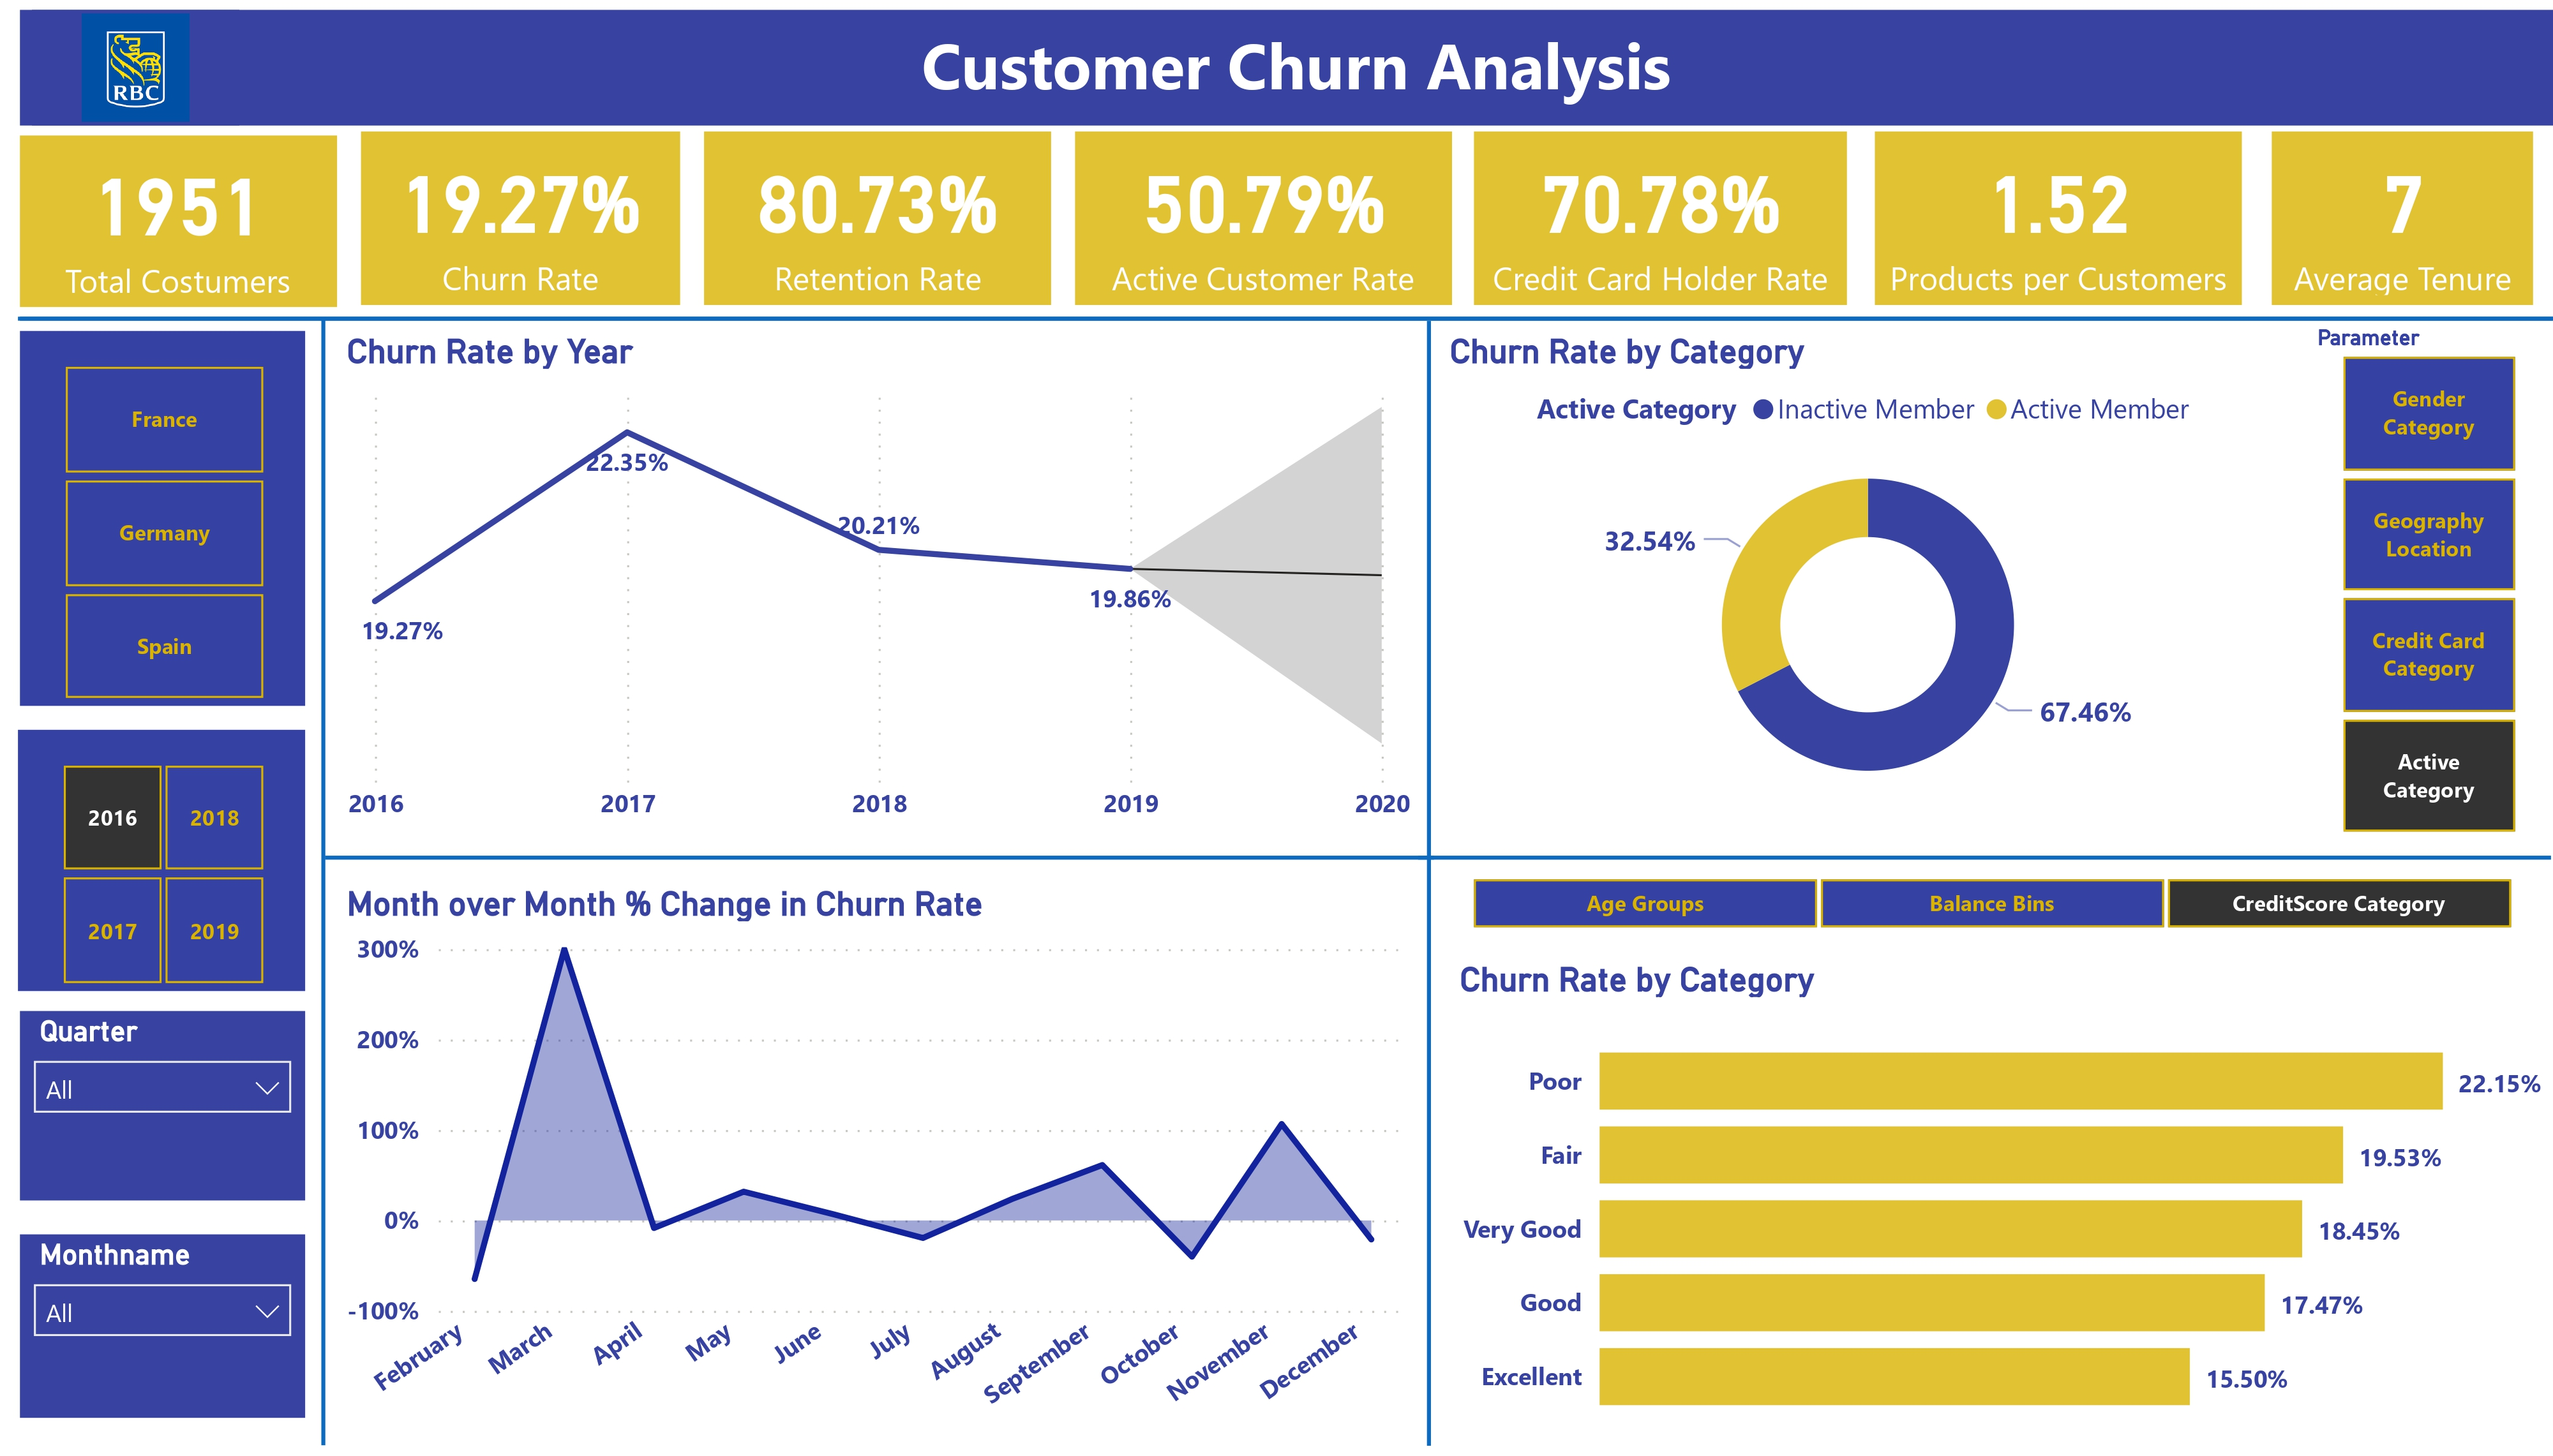

The page's visual inventory and layout, read from the dashboard file:
{"tool":"powerbi","page":{"name":"Page 1","canvas":[1280,720],"ordinal":0},"visuals":[{"type":"textbox","box":[9.6,0,1271,57.6],"z":0},{"type":"image","box":[16.5,0,104.2,57.6],"z":1000},{"type":"card","fields":{"Values":["MeasureTable.Total Costumers"]},"box":[10,62.9,158.6,85.7],"z":2000},{"type":"card","fields":{"Values":["MeasureTable.Churn Rate"]},"box":[181.4,61.4,160,87.1],"z":3000},{"type":"card","fields":{"Values":["MeasureTable.Retention Rate"]},"box":[352.9,61.4,174.3,87.1],"z":4000},{"type":"card","fields":{"Values":["MeasureTable.Average Tenure"]},"box":[1138.6,61.4,131.4,87.1],"z":5000},{"type":"card","fields":{"Values":["MeasureTable.Products per Customers"]},"box":[940,61.4,184.3,87.1],"z":6000},{"type":"card","fields":{"Values":["MeasureTable.Active Customer Rate"]},"box":[538.6,61.4,188.6,87.1],"z":7000},{"type":"card","fields":{"Values":["MeasureTable.Credit Card Holder Rate"]},"box":[738.6,61.4,187.1,87.1],"z":8000},{"type":"shape","box":[9.6,148.1,1271,13.7],"z":9000},{"type":"shape","box":[156.5,155.2,12.2,564.8],"z":10000},{"type":"slicer","title":"Year","fields":{"Values":["DateMaster.Year"]},"box":[8.6,360.6,144.2,130.8],"z":11000},{"type":"slicer","fields":{"Values":["Geography.GeographyLocation"]},"box":[9.8,161.4,143,188.3],"z":12000},{"type":"slicer","fields":{"Values":["DateMaster.Monthname"]},"box":[9.8,613.7,143,91.7],"z":13000},{"type":"donutChart","title":"Churn Rate by Category","fields":{"Category":["ActiveCustomer.ActiveCategory"],"Y":["MeasureTable.Churn Rate"]},"box":[722.4,161.4,429.1,246.9],"z":14000},{"type":"slicer","fields":{"Values":["Parameter.Parameter"]},"box":[1151.5,156.5,129.6,260.4],"z":15000},{"type":"clusteredBarChart","title":"Churn Rate  by Category","fields":{"Category":["Bank_Churn.CreditScore Category"],"Y":["MeasureTable.Churn Rate"]},"box":[727.3,475.5,552.5,244.5],"z":16000},{"type":"lineChart","fields":{"Y":["MeasureTable.Churn Rate"],"Category":["DateMaster.Date.Variation.Date Hierarchy.Year","DateMaster.Date.Variation.Date Hierarchy.Quarter","DateMaster.Date.Variation.Date Hierarchy.Month","DateMaster.Date.Variation.Date Hierarchy.Day"]},"box":[168.7,161.4,542.8,255.5],"z":17000},{"type":"slicer","fields":{"Values":["Parameter 2.Parameter"]},"box":[716.3,431.5,563.5,29.3],"z":18000},{"type":"shape","box":[710,155.7,12.9,564.3],"z":19000},{"type":"slicer","fields":{"Values":["DateMaster.Quarter"]},"box":[9.8,502.4,143,95.3],"z":20000},{"type":"areaChart","title":"Month over Month % Change in Churn Rate","fields":{"Y":["MeasureTable.MoM % Change in Churn Rate"],"Category":["DateMaster.Date.Variation.Date Hierarchy.Month"]},"box":[168.7,437.6,541.5,282.4],"z":21000},{"type":"shape","box":[9,148.1,1271,13.7],"z":22000},{"type":"shape","box":[162.6,419.3,556.2,12.2],"z":23000},{"type":"shape","box":[711.4,419.3,568.4,12.2],"z":24000}]}

Visuals, with their boxes in screenshot pixels (x1, y1, x2, y2), scaled from the page's 1280x720 canvas onto the 2553x1456 screenshot:
textbox: l=19, t=0, r=2552, b=117
image: l=33, t=0, r=241, b=117
card - MeasureTable.Total Costumers: l=20, t=127, r=336, b=301
card - MeasureTable.Churn Rate: l=362, t=124, r=681, b=301
card - MeasureTable.Retention Rate: l=704, t=124, r=1052, b=301
card - MeasureTable.Average Tenure: l=2271, t=124, r=2533, b=301
card - MeasureTable.Products per Customers: l=1875, t=124, r=2242, b=301
card - MeasureTable.Active Customer Rate: l=1074, t=124, r=1450, b=301
card - MeasureTable.Credit Card Holder Rate: l=1473, t=124, r=1846, b=301
shape: l=19, t=299, r=2552, b=327
shape: l=312, t=314, r=336, b=1455
"Year" slicer: l=17, t=729, r=304, b=993
slicer - Geography.GeographyLocation: l=20, t=327, r=305, b=707
slicer - DateMaster.Monthname: l=20, t=1241, r=305, b=1427
"Churn Rate by Category" donutChart: l=1441, t=327, r=2296, b=826
slicer - Parameter.Parameter: l=2296, t=316, r=2552, b=843
"Churn Rate  by Category" clusteredBarChart: l=1451, t=962, r=2552, b=1455
lineChart - MeasureTable.Churn Rate x DateMaster.Date.Variation.Date Hierarchy.Year: l=336, t=327, r=1419, b=843
slicer - Parameter 2.Parameter: l=1428, t=873, r=2552, b=932
shape: l=1416, t=315, r=1442, b=1455
slicer - DateMaster.Quarter: l=20, t=1016, r=305, b=1208
"Month over Month % Change in Churn Rate" areaChart: l=336, t=885, r=1416, b=1455
shape: l=18, t=299, r=2552, b=327
shape: l=324, t=848, r=1434, b=873
shape: l=1419, t=848, r=2552, b=873
